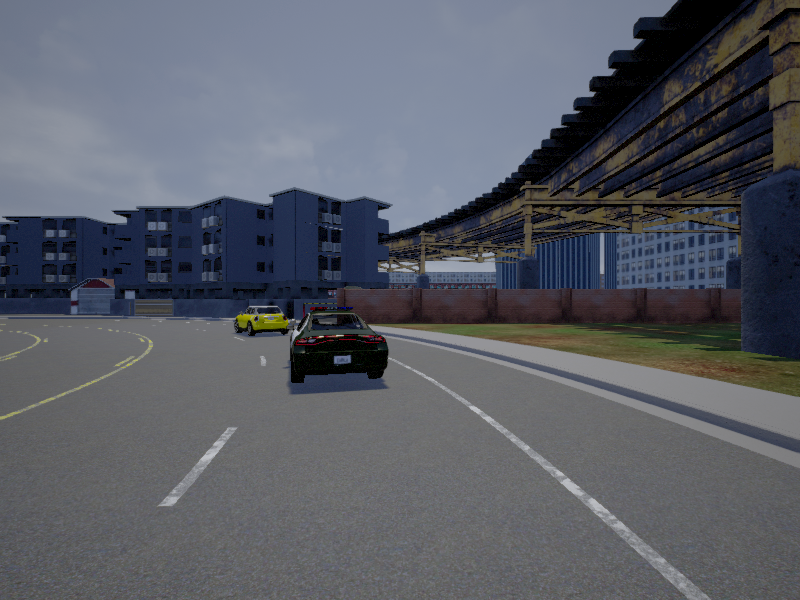Benign: (288, 305, 388, 385), (232, 305, 290, 337)
